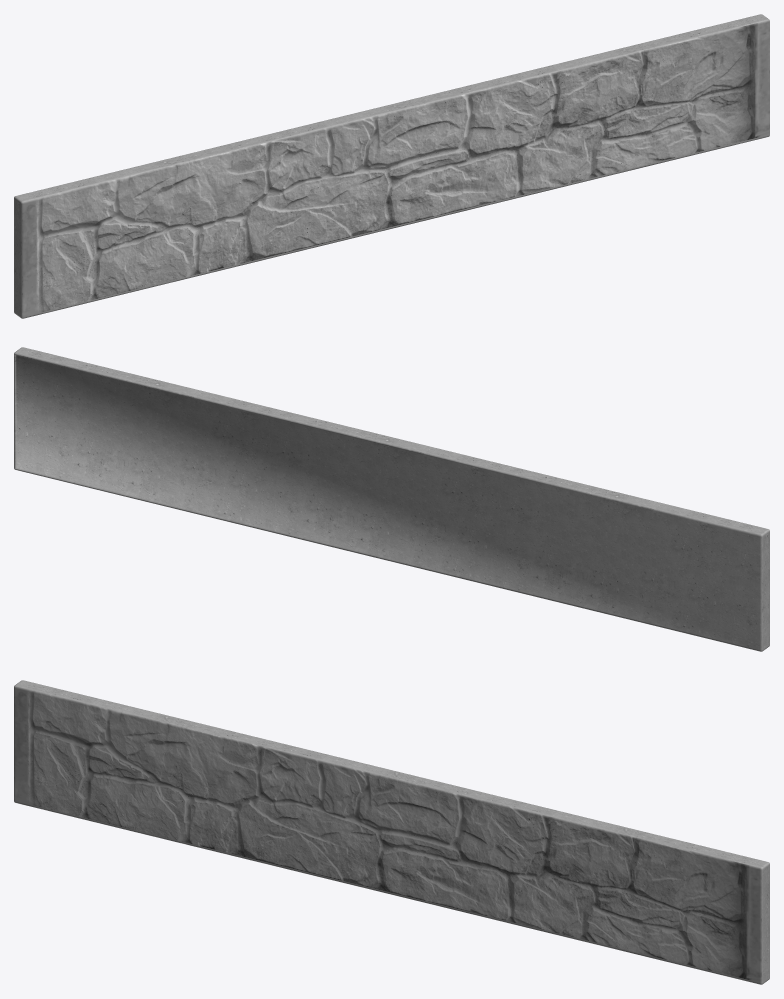
The model's file is RusticStone300grey.glb.
3 views of the same model, one above another, from view 1: azimuth 30°, elevation 25°; view 2: azimuth 150°, elevation 25°; view 3: azimuth 330°, elevation 25° (orthographic).
Parts seen in each view (by area): view 1: Object; view 2: Object; view 3: Object.
Part boxes in pixels (box(x1,y1,x2,y2)): Object: box(14, 14, 769, 318); Object: box(14, 347, 769, 651); Object: box(14, 680, 769, 984).
Bounding box in the file's own units: 2 × 0.3 × 0.04.
Materials: 1 (1 with a texture image).
